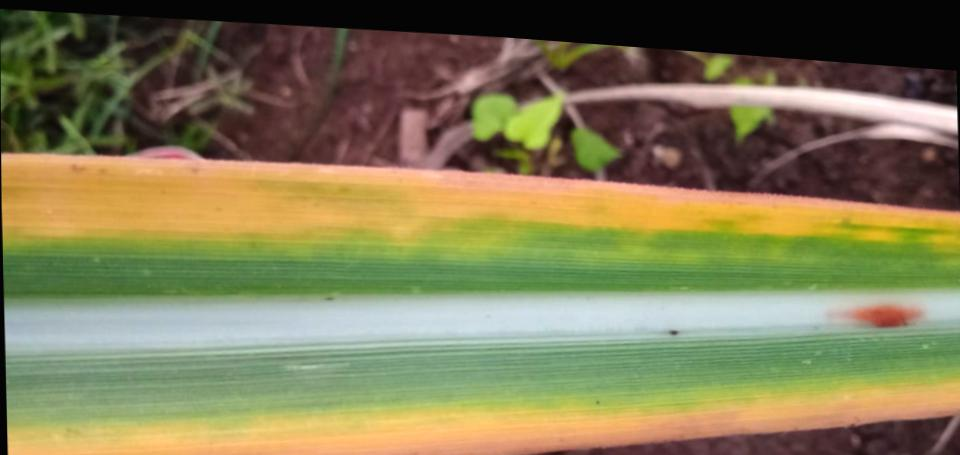RedRot: (829, 304, 927, 328)
Rust: (667, 329, 678, 335)
Yellow: (1, 153, 960, 250), (8, 379, 960, 455)
